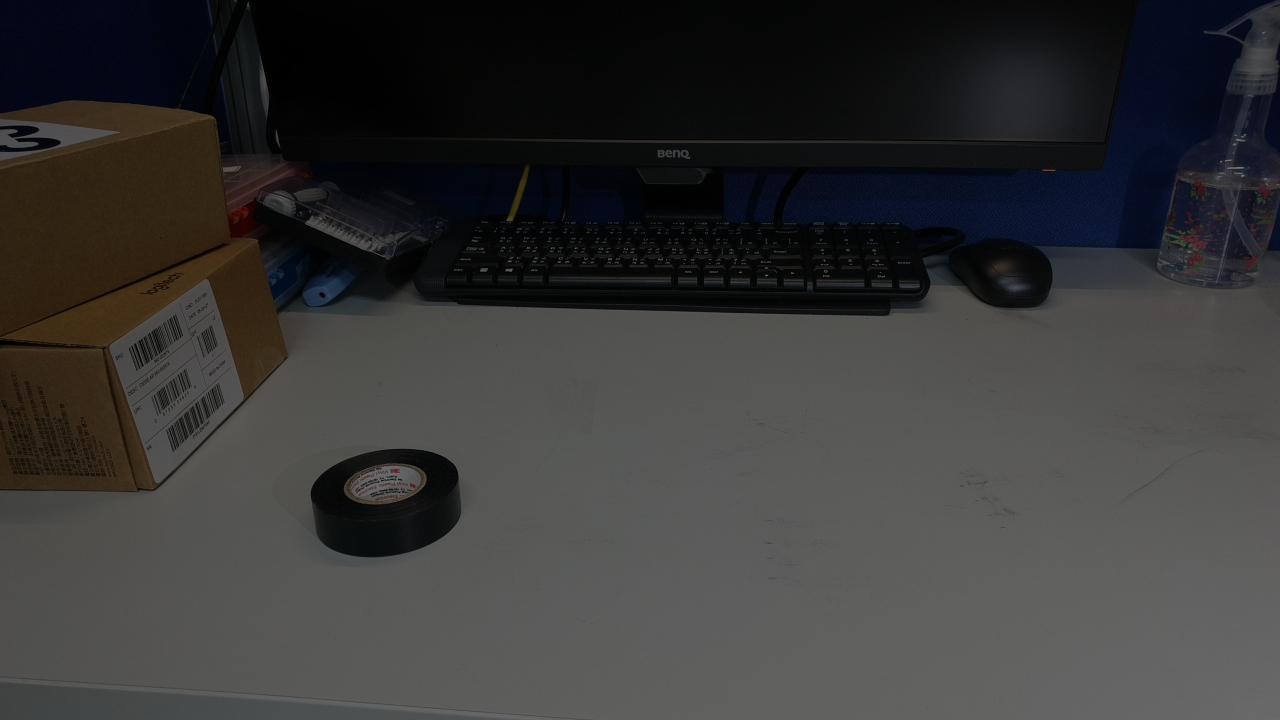long: (619, 415, 763, 530)
